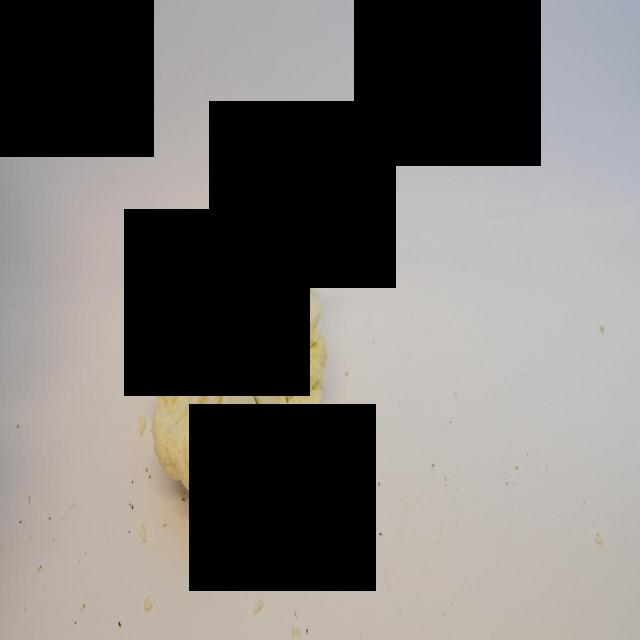cauliflower: (147, 190, 324, 514)
